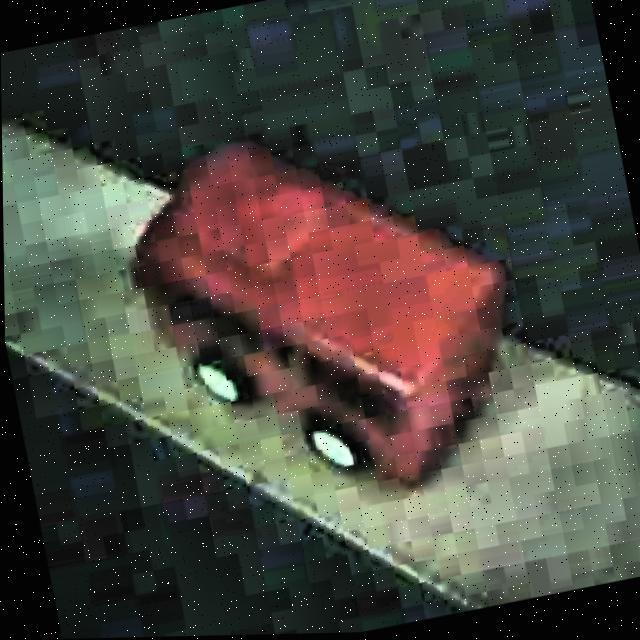bus: (109, 97, 536, 535)
